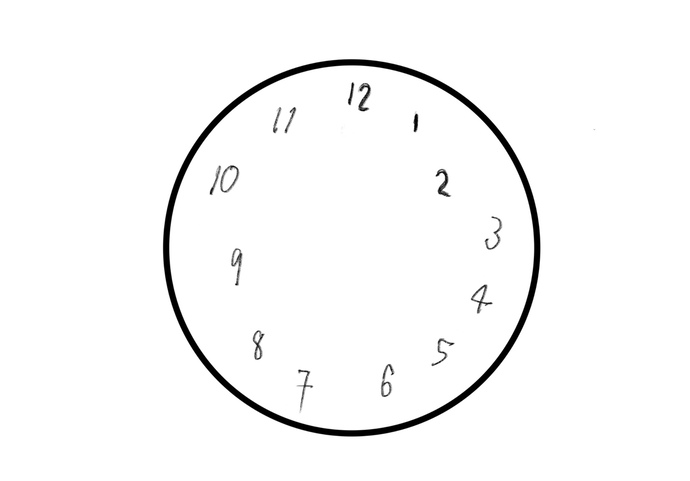eight: (245, 321, 276, 362)
eleven: (268, 99, 304, 141)
five: (427, 325, 461, 377)
four: (463, 276, 500, 320)
nine: (223, 240, 253, 291)
one: (407, 103, 426, 140)
seven: (291, 362, 316, 416)
six: (372, 356, 400, 405)
ten: (207, 163, 245, 197)
three: (480, 206, 507, 262)
twelve: (339, 76, 377, 114)
two: (426, 162, 457, 202)
